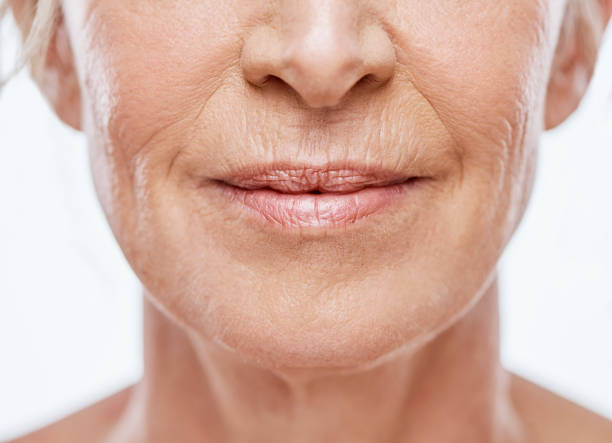Kerutan: (98, 48, 245, 244), (414, 79, 543, 219)
